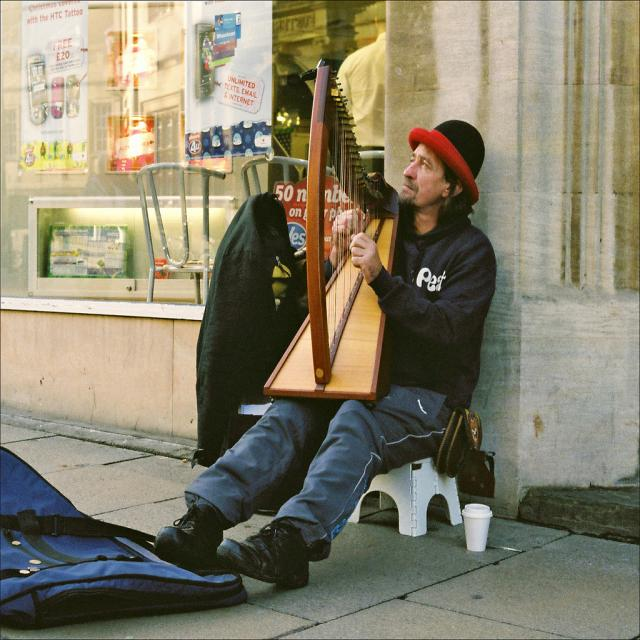harp: (259, 62, 400, 396)
